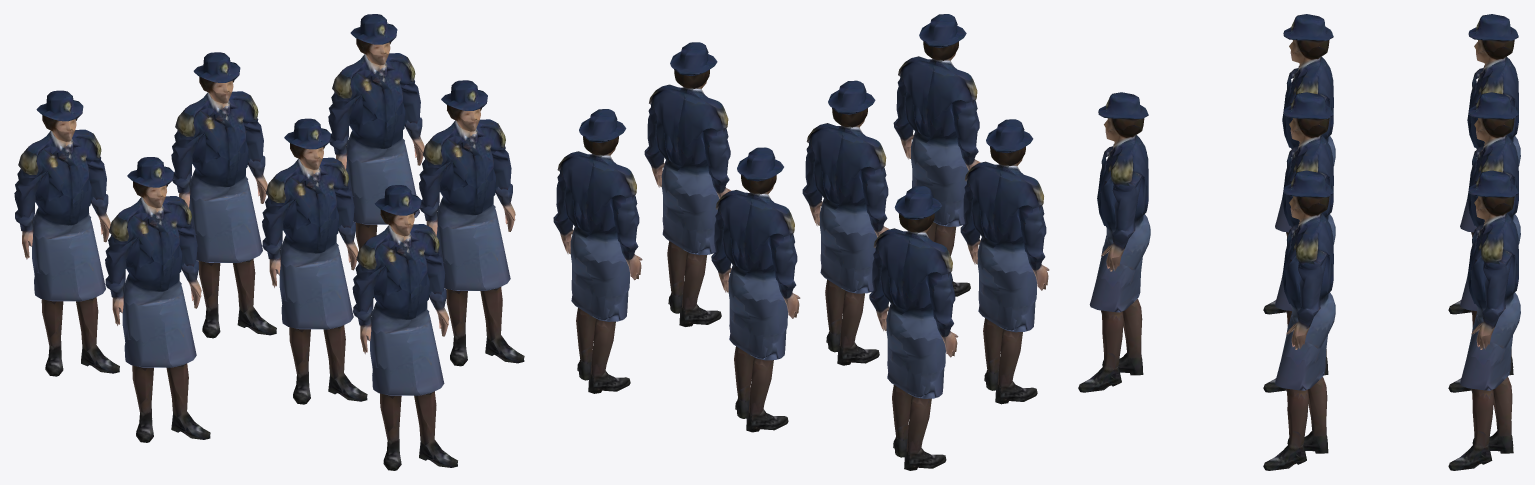
Rendered from parade_afsel_idle_lod2.glb.
The picture shows the model from 3 angles, left to right: view 1: azimuth 30°, elevation 25°; view 2: azimuth 150°, elevation 25°; view 3: azimuth 270°, elevation 25°; orthographic projection. The views are drawn at different scales.
Visible parts, largest first — view 1: tripo_node_67183527-3a40-4d82-936a-aa78f33005aa; view 2: tripo_node_67183527-3a40-4d82-936a-aa78f33005aa; view 3: tripo_node_67183527-3a40-4d82-936a-aa78f33005aa.
Boxes of the visible parts, x1,y1,x2,y2 form: tripo_node_67183527-3a40-4d82-936a-aa78f33005aa: [14, 14, 524, 470]; tripo_node_67183527-3a40-4d82-936a-aa78f33005aa: [553, 14, 1049, 470]; tripo_node_67183527-3a40-4d82-936a-aa78f33005aa: [1078, 14, 1520, 470].
Bounding box in the file's own units: 1.53 × 0.9966 × 1.43.
1 material, 1 textured.
